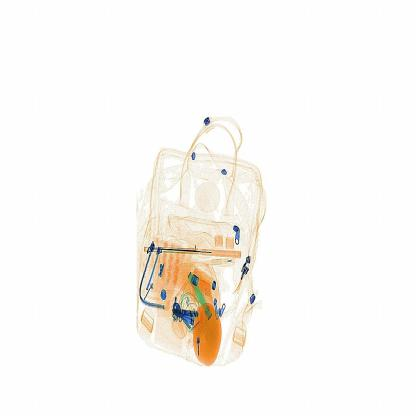wrench: (138, 235, 252, 261)
